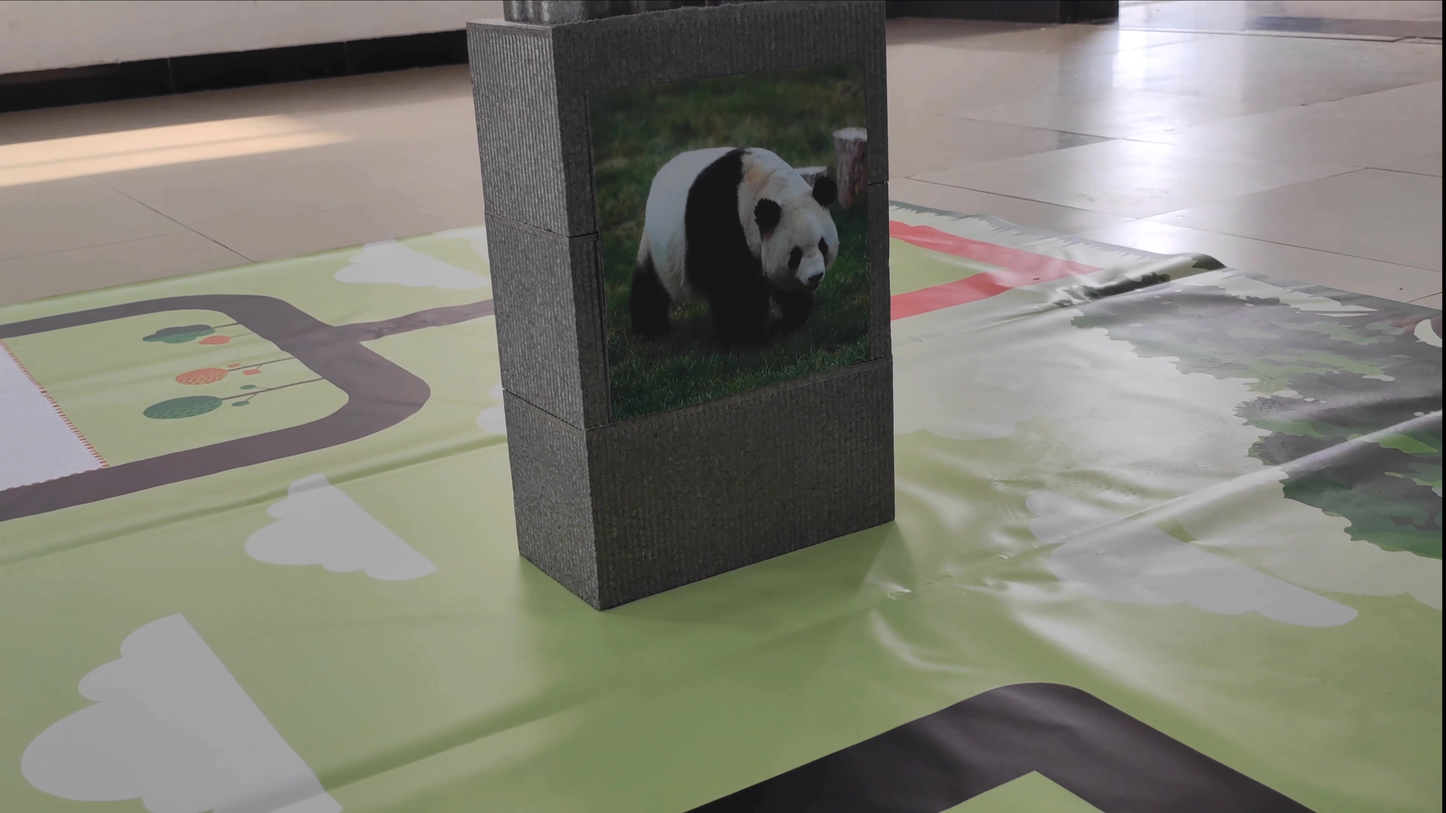panda: (607, 138, 874, 358)
